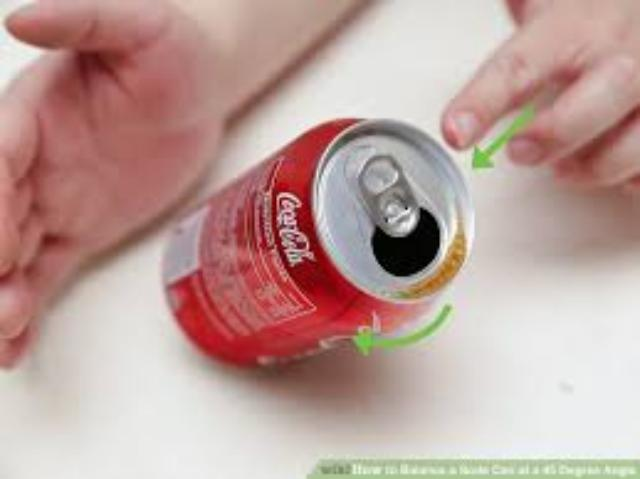metal: (161, 116, 469, 361)
